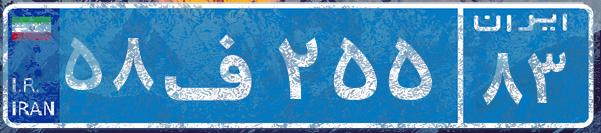2: (273, 28, 330, 110)
3: (525, 38, 570, 115)
5: (385, 28, 445, 110), (330, 28, 385, 110), (57, 26, 110, 107)
8: (475, 38, 525, 113), (110, 28, 158, 105)
ف: (158, 15, 273, 115)
